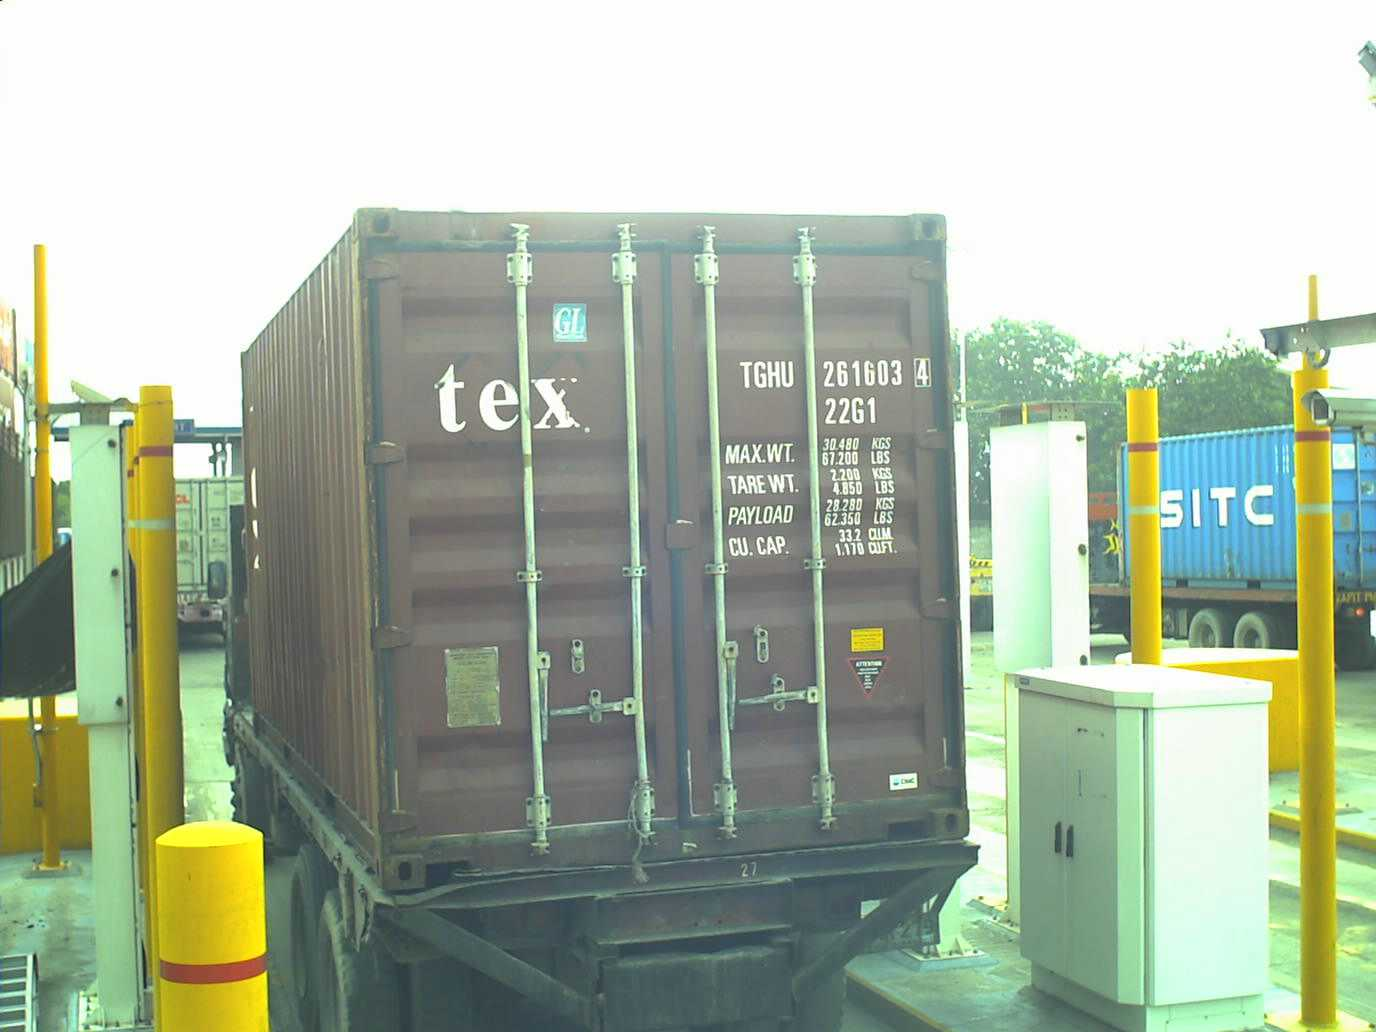container_door: (350, 202, 971, 867)
